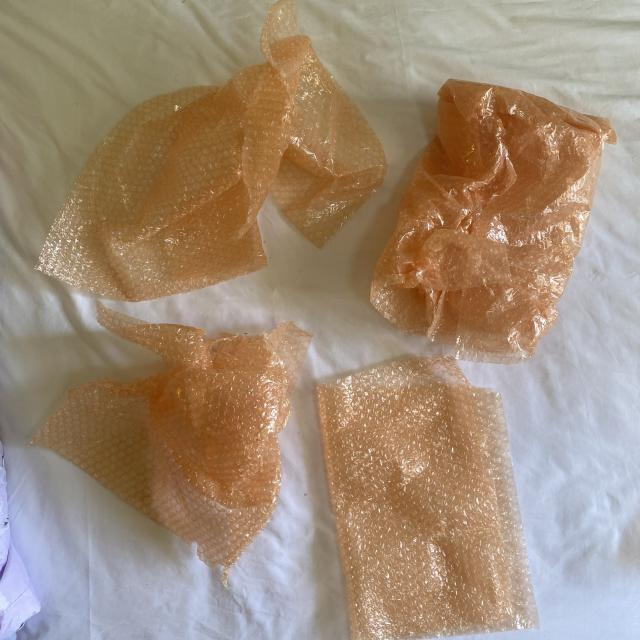Single-layer Plastic: (38, 0, 386, 301), (30, 302, 312, 582), (371, 80, 615, 364), (318, 356, 539, 640)
